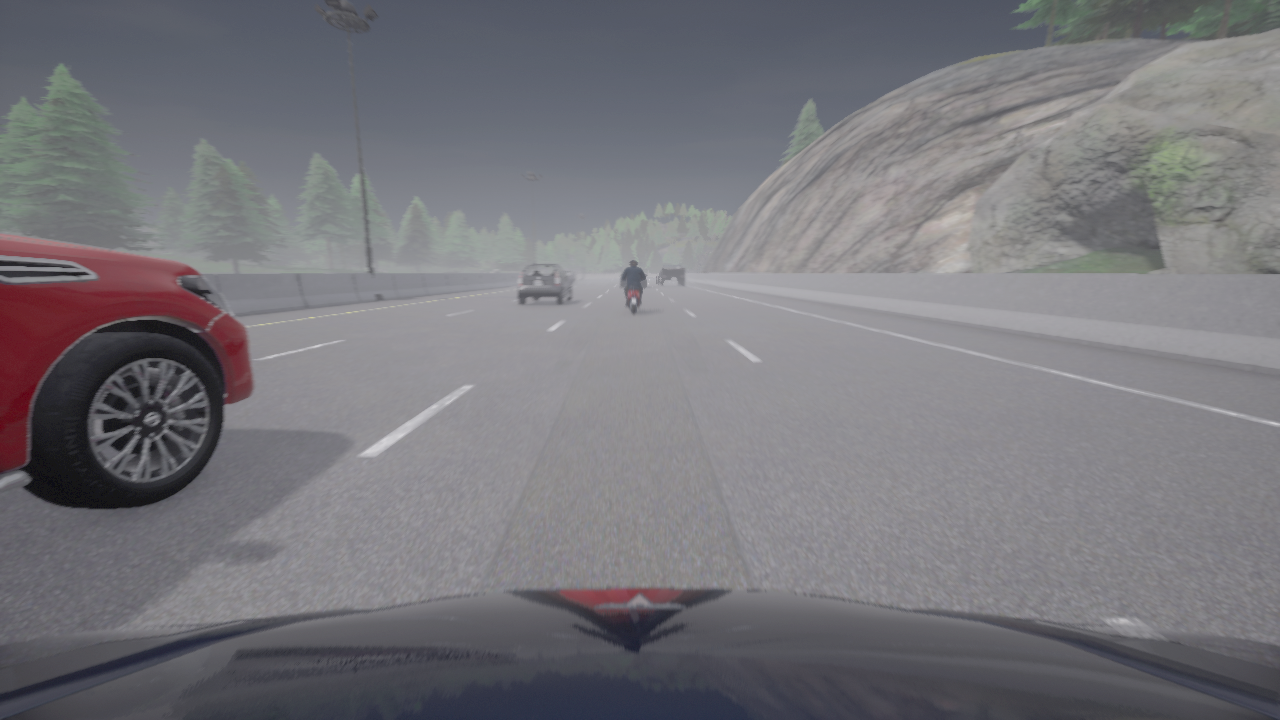cyclist: (0, 588, 1279, 719), (516, 263, 572, 304), (620, 272, 646, 313), (657, 264, 685, 286), (620, 268, 645, 287), (565, 271, 576, 284)
